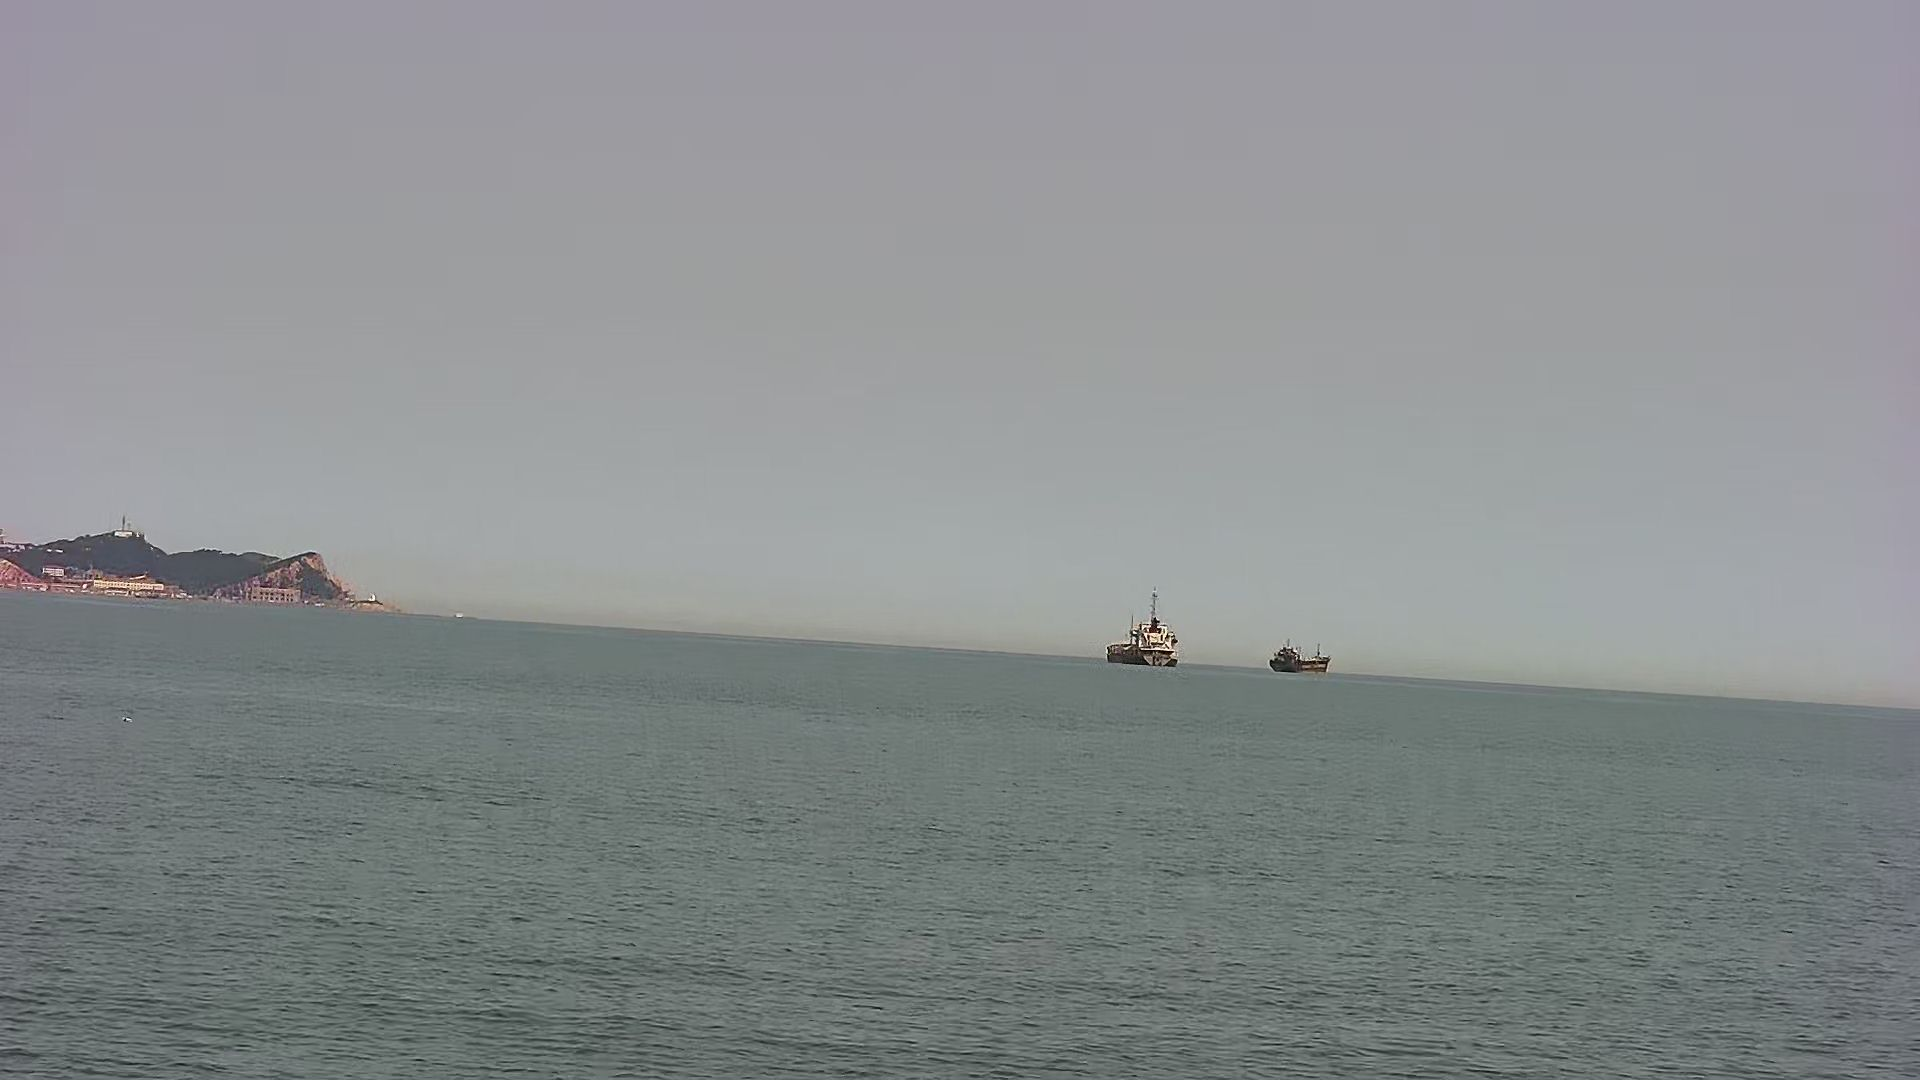ship: (1104, 585, 1185, 673), (1266, 638, 1332, 676)
